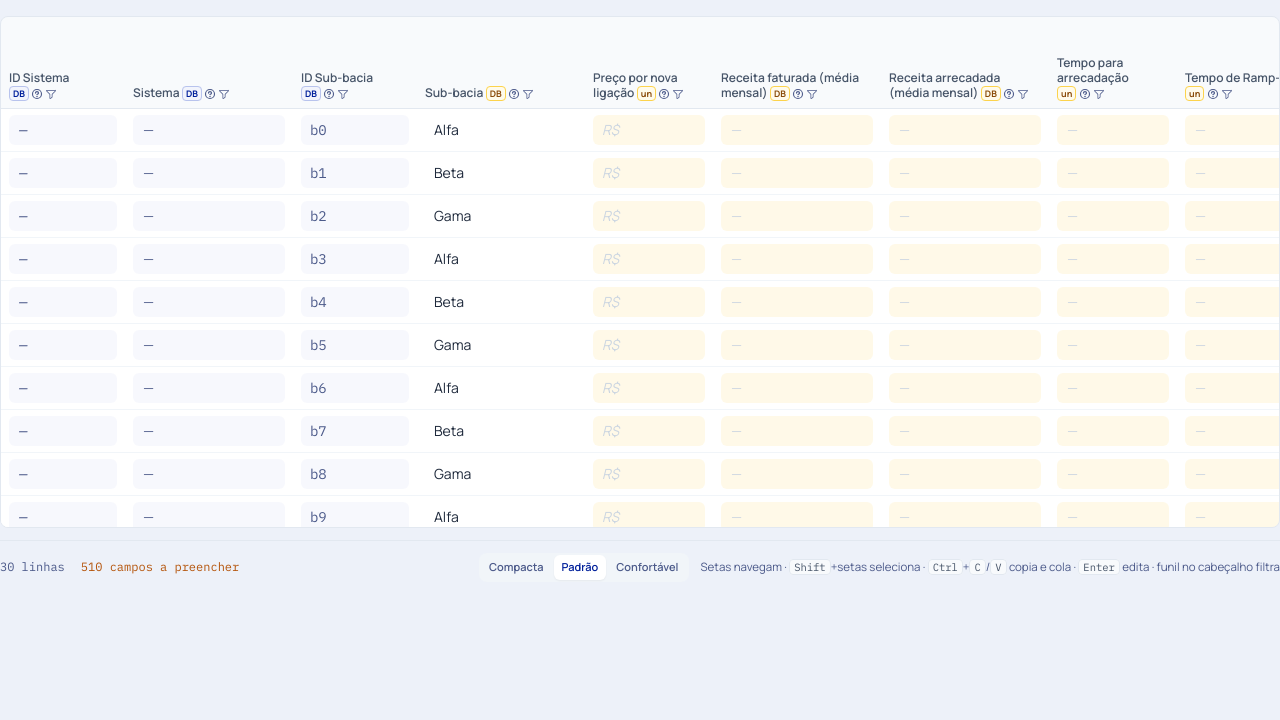
o funil de coluna › aberto, lista os valores distintos em ordem — e só os distintos
Click the button named "Filtrar Sub-bacia".
click(528, 94)  # box x1=522 y1=88 x2=534 y2=100
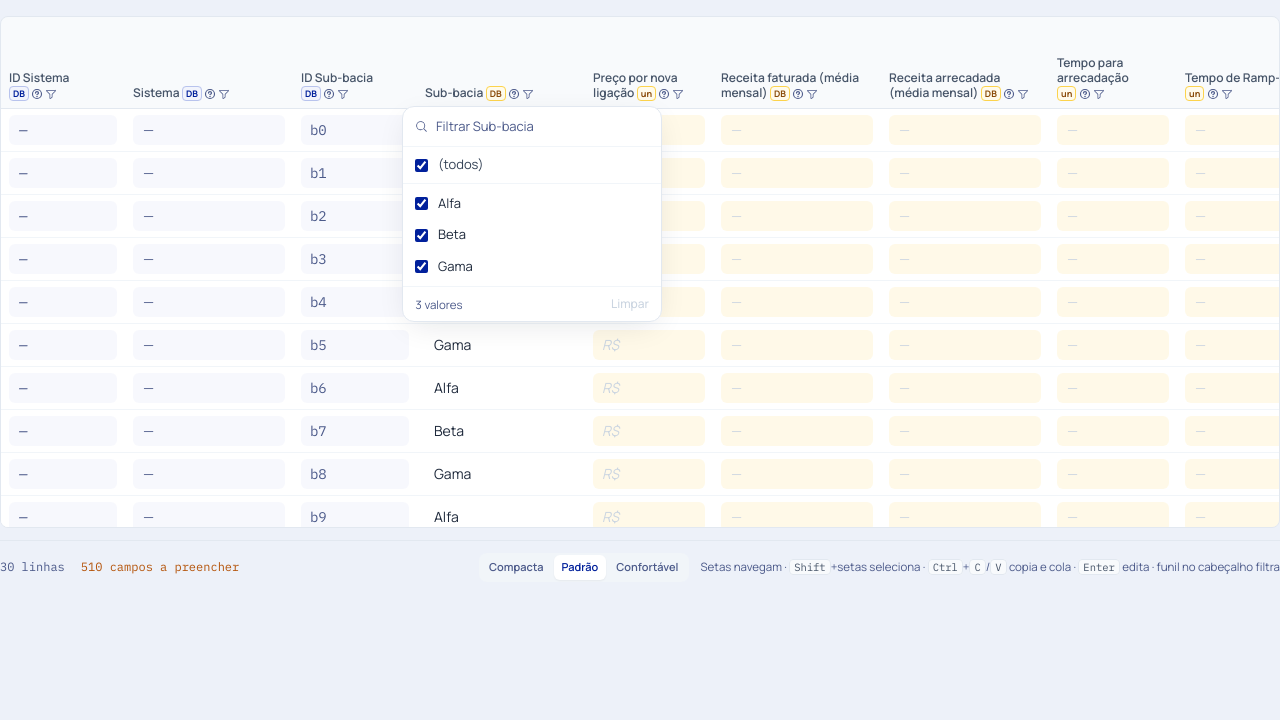
expect the text "3 valores" is shown: met, box x1=415 y1=296 x2=463 y2=313
